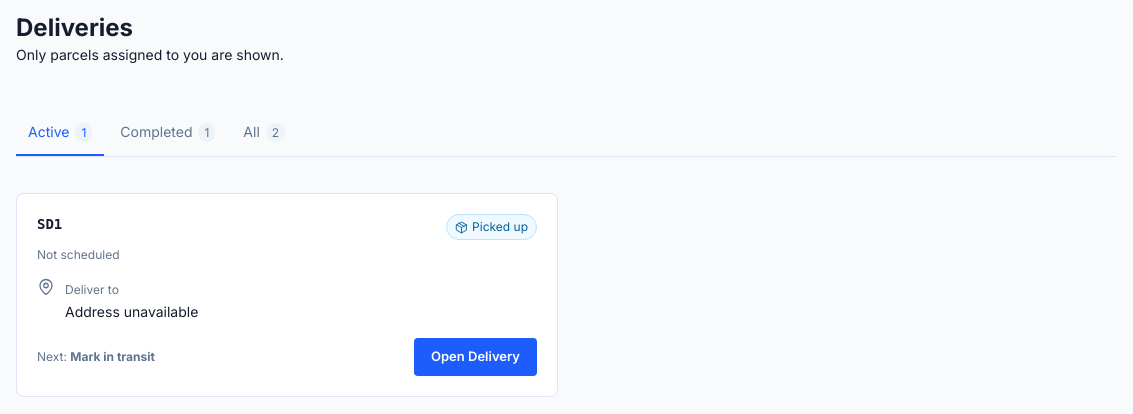
Test case: assigned deliveries page › filters active and completed assignments and preserves correct counts
The width and height of the screenshot is (1133, 414).
Expected: the link with aria-label "Open delivery SD1" is shown, [414,338,537,376]
Expected: the link "Open delivery SD2" is not shown
Click the tab "Completed1" at (168, 132), box [108,109,227,156]
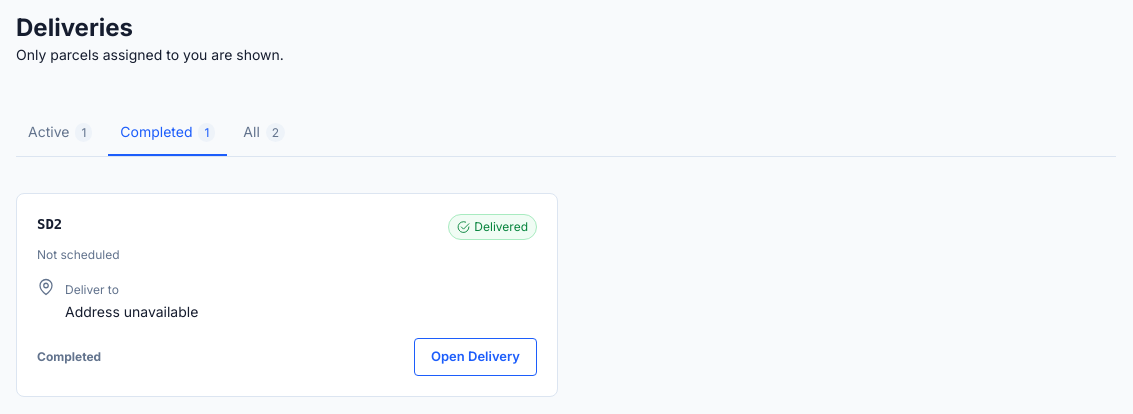
Expected: the link with aria-label "Open delivery SD2" is shown, [414,338,537,376]
Click the tab "All2" at (264, 132), box [231,109,297,156]
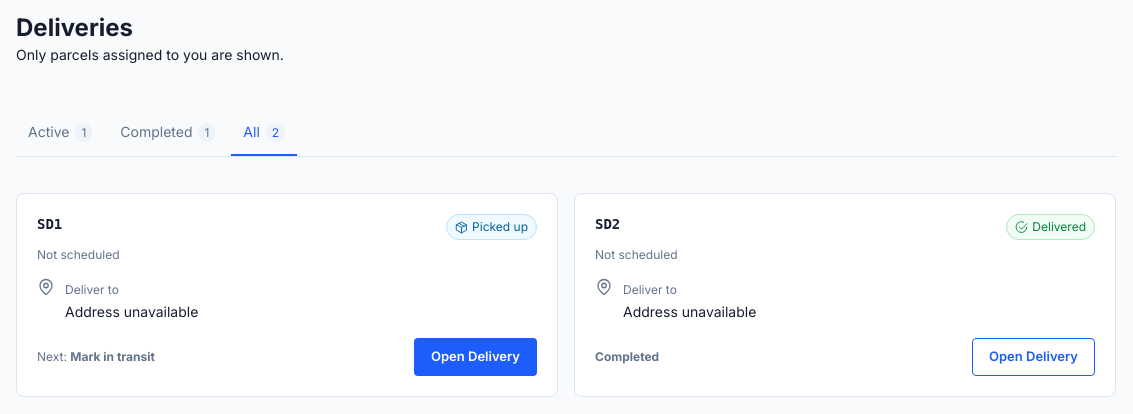
Expected: the number of links "Open Delivery" is 2, [414,338,537,376]; [972,338,1095,376]
